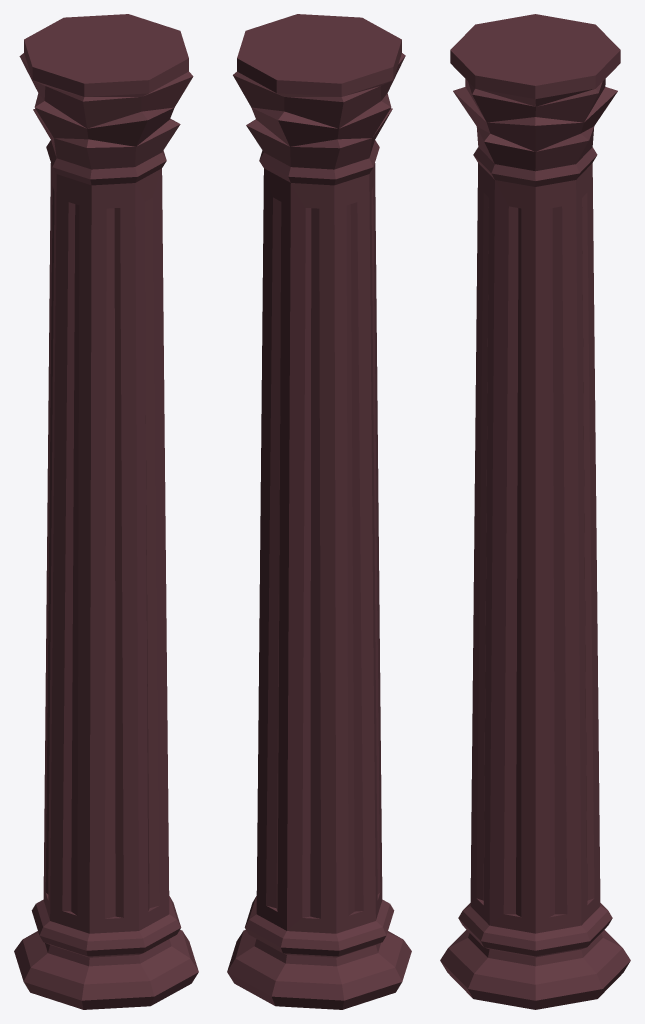
Rendered from SM_Pillar_Corinthian_Big_Empire.fbx.
3 renders of one model, left to right at view 1: azimuth 30°, elevation 25°; view 2: azimuth 150°, elevation 25°; view 3: azimuth 270°, elevation 25°, orthographic.
Parts seen in each view (by area): view 1: SM_Pillar_Corinthian_Big_Empire; view 2: SM_Pillar_Corinthian_Big_Empire; view 3: SM_Pillar_Corinthian_Big_Empire.
Part boxes in pixels (x1,y1,x2,y2): SM_Pillar_Corinthian_Big_Empire: (14, 14, 198, 1009); SM_Pillar_Corinthian_Big_Empire: (227, 14, 411, 1009); SM_Pillar_Corinthian_Big_Empire: (440, 14, 630, 1009).
Bounding box in the file's own units: 1.88 × 10.01 × 1.88.
